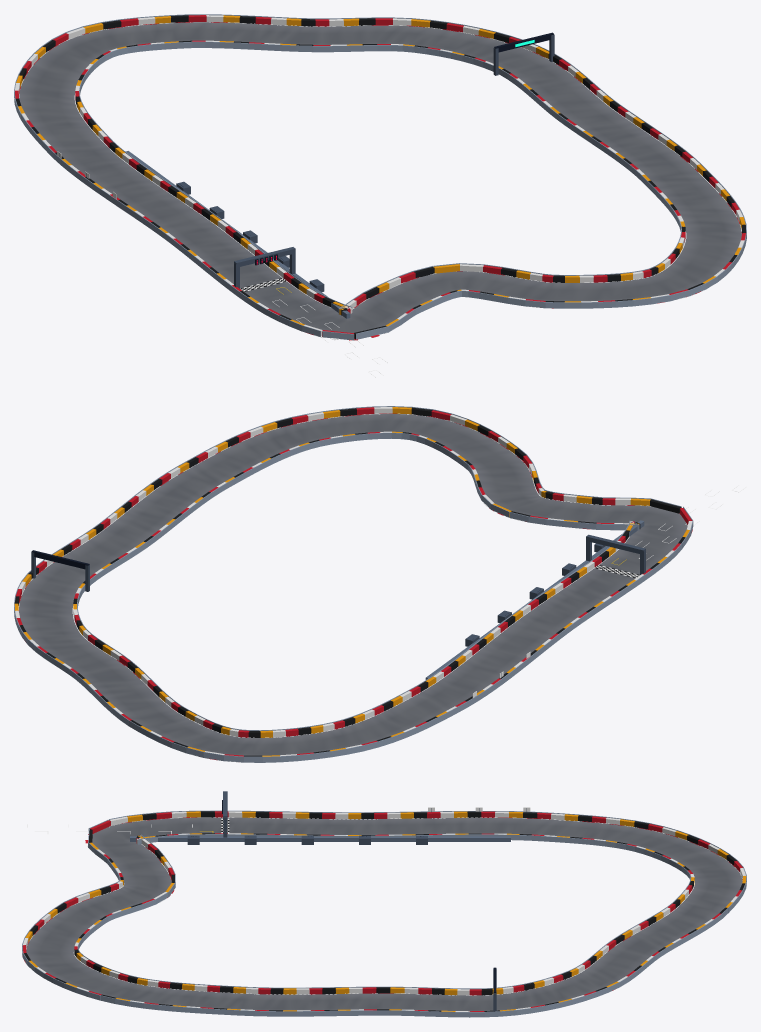
File: track.glb
3 views of the same model, one above another, from view 1: azimuth 30°, elevation 25°; view 2: azimuth 150°, elevation 25°; view 3: azimuth 270°, elevation 25° (orthographic). The views are drawn at different scales.
Visible parts, largest first — view 1: F1_Grand_Prix_Circuit, Tire_Barriers_And_Armco, F1_Grand_Prix_Features, Rumble_Strips; view 2: F1_Grand_Prix_Circuit, Tire_Barriers_And_Armco, F1_Grand_Prix_Features, Rumble_Strips; view 3: F1_Grand_Prix_Circuit, Tire_Barriers_And_Armco, F1_Grand_Prix_Features, Rumble_Strips.
Part boxes in pixels (x1,y1,x2,y2): F1_Grand_Prix_Circuit: [19, 22, 741, 332]; Tire_Barriers_And_Armco: [14, 14, 746, 340]; F1_Grand_Prix_Features: [57, 32, 554, 377]; Rumble_Strips: [19, 22, 741, 340]; F1_Grand_Prix_Circuit: [19, 414, 687, 755]; Tire_Barriers_And_Armco: [14, 406, 693, 762]; F1_Grand_Prix_Features: [31, 485, 746, 697]; Rumble_Strips: [18, 413, 692, 762]; F1_Grand_Prix_Circuit: [26, 817, 742, 1011]; Tire_Barriers_And_Armco: [22, 810, 746, 1017]; F1_Grand_Prix_Features: [27, 791, 530, 1011]; Rumble_Strips: [22, 817, 746, 993].
Bounding box in the file's own units: 150 × 9.06 × 231.
